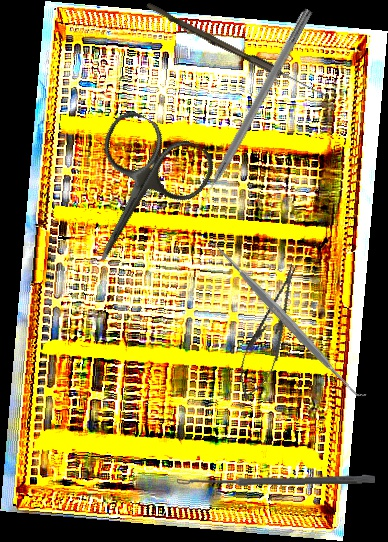Iris Scissors: (51, 104, 222, 287)
Needle Holder: (229, 258, 311, 406)
Pusher: (189, 6, 314, 217)
Spatula Surgical: (203, 232, 371, 408)
Surgical Spoon: (143, 2, 330, 100), (176, 474, 376, 487)
